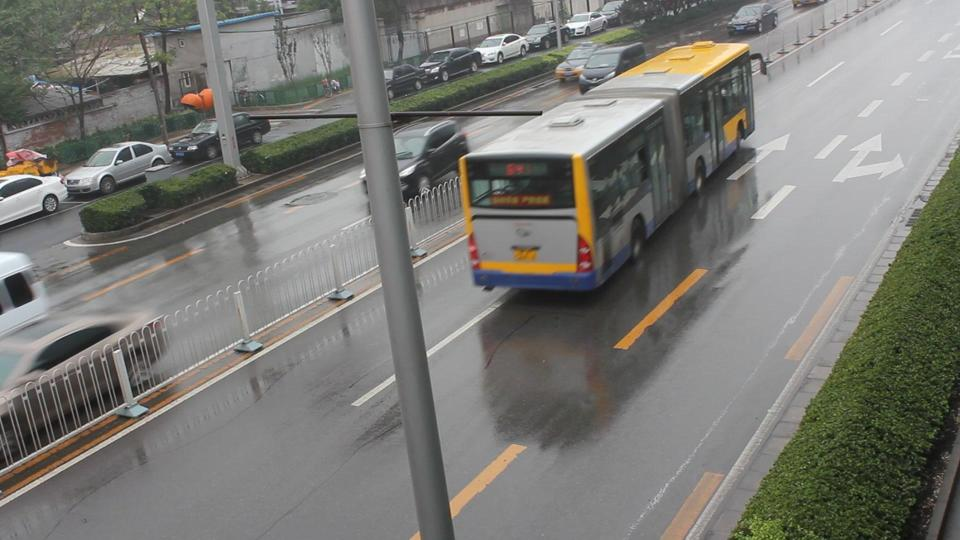bus: (451, 26, 759, 302)
car: (0, 306, 165, 429), (375, 120, 463, 197), (56, 142, 169, 197), (181, 111, 273, 162), (0, 173, 74, 226), (558, 44, 632, 87), (413, 48, 483, 81), (475, 32, 529, 63), (564, 11, 615, 35), (523, 23, 560, 51), (555, 62, 585, 82)
